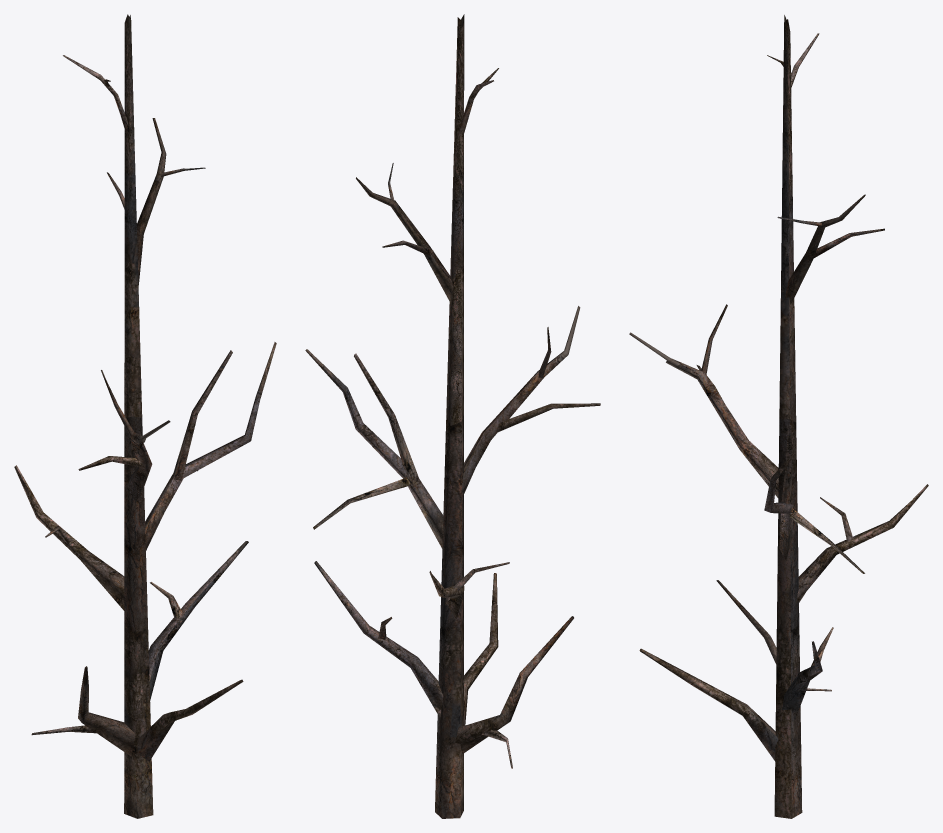
File: Dry tree_B.fbx
3 views of the same model, side by side, from view 1: azimuth 30°, elevation 25°; view 2: azimuth 150°, elevation 25°; view 3: azimuth 270°, elevation 25° (orthographic).
Visible parts, largest first — view 1: Dry tree_B; view 2: Dry tree_B; view 3: Dry tree_B.
Boxes of the visible parts, x1,y1,x2,y2 form: Dry tree_B: (14, 14, 276, 818); Dry tree_B: (305, 14, 600, 818); Dry tree_B: (629, 15, 928, 818).
Bounding box in the file's own units: 300 × 935 × 320.
1 material, 1 textured.
